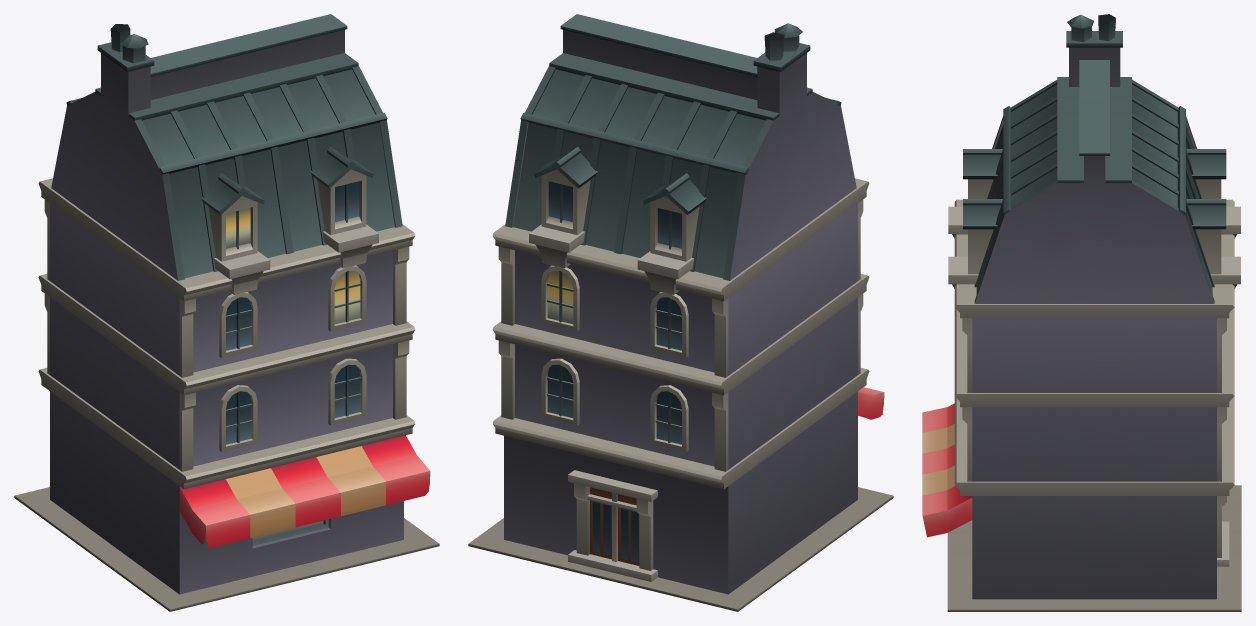
The model's file is BLD1210017.fbx.
The picture shows the model from 3 angles, left to right: view 1: azimuth 30°, elevation 25°; view 2: azimuth 150°, elevation 25°; view 3: azimuth 270°, elevation 25°; orthographic projection. The views are drawn at different scales.
Parts seen in each view (by area): view 1: smBLD1210017; view 2: smBLD1210017; view 3: smBLD1210017.
Boxes of the visible parts, bbox=[...] form: smBLD1210017: bbox=[14, 14, 439, 611]; smBLD1210017: bbox=[468, 14, 893, 611]; smBLD1210017: bbox=[922, 14, 1241, 611].
Bounding box in the file's own units: 1148 × 2109 × 1247.
1 material, 1 textured.
